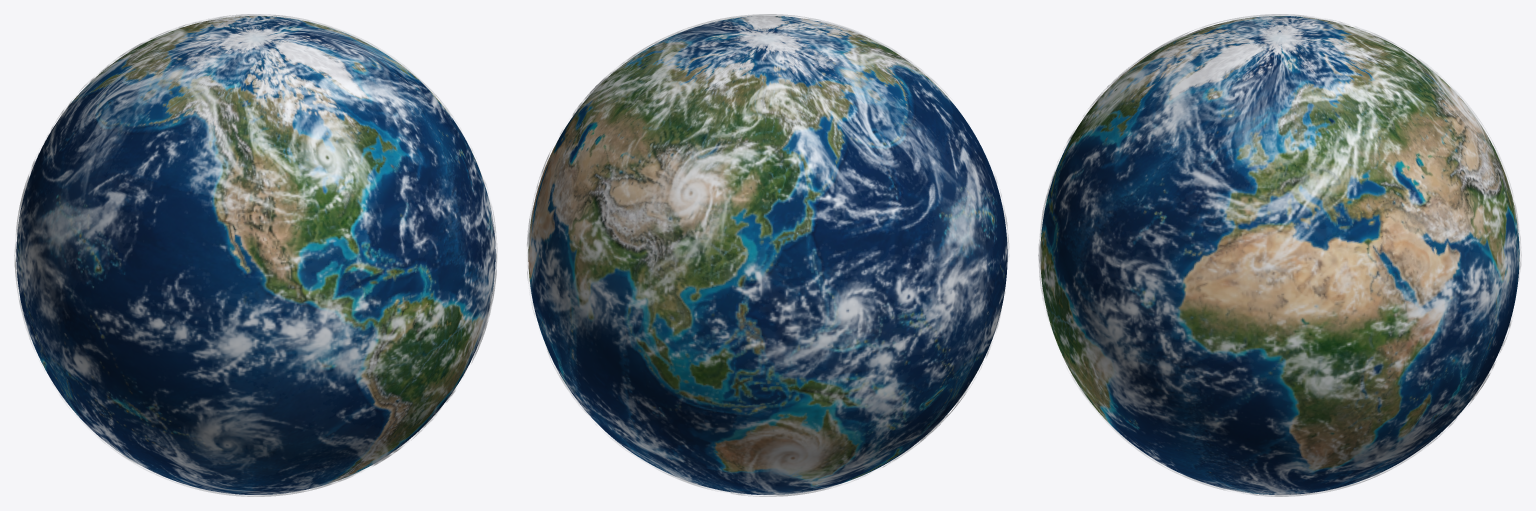
File: homeworld.glb
3 renders of one model, left to right at view 1: azimuth 30°, elevation 25°; view 2: azimuth 150°, elevation 25°; view 3: azimuth 270°, elevation 25°, orthographic.
Visible parts, largest first — view 1: Meridian_Surface, Meridian_Clouds; view 2: Meridian_Surface, Meridian_Clouds; view 3: Meridian_Surface, Meridian_Clouds.
Boxes of the visible parts, x1=… form: Meridian_Surface: x1=16, y1=16, x2=495, y2=494; Meridian_Clouds: x1=14, y1=14, x2=497, y2=496; Meridian_Surface: x1=528, y1=16, x2=1007, y2=494; Meridian_Clouds: x1=527, y1=14, x2=1009, y2=496; Meridian_Surface: x1=1040, y1=16, x2=1519, y2=494; Meridian_Clouds: x1=1038, y1=14, x2=1521, y2=496.
Size of the model in its own units: 2.02 by 2.02 by 2.02.
Materials: 2 (2 with a texture image).
